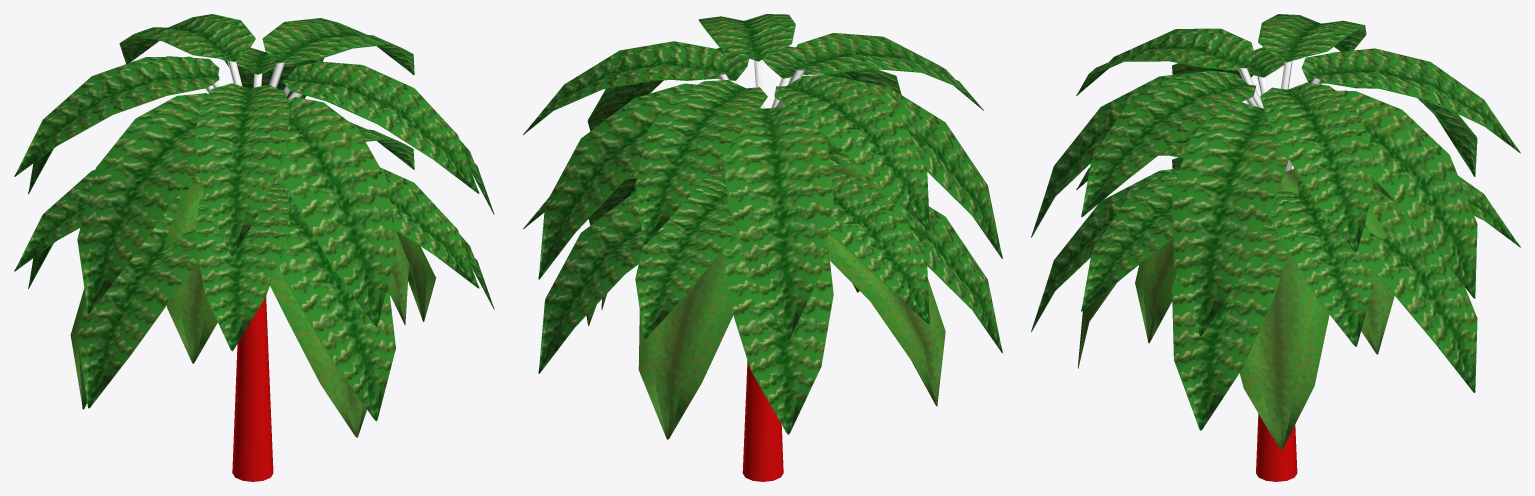
Rendered from palmtree_03.fbx.
3 renders of one model, left to right at view 1: azimuth 30°, elevation 25°; view 2: azimuth 150°, elevation 25°; view 3: azimuth 270°, elevation 25°, orthographic.
Parts seen in each view (by area): view 1: palmtree_03c, palmtree_03b, palmtree_03a, colmesh_palmtree_03a; view 2: palmtree_03c, palmtree_03b, palmtree_03a, colmesh_palmtree_03a; view 3: palmtree_03c, palmtree_03b, palmtree_03a, colmesh_palmtree_03a.
Part boxes in pixels (x1,y1,x2,y2): palmtree_03c: (14,14,494,326); palmtree_03b: (14,122,494,421); palmtree_03a: (70,172,435,437); colmesh_palmtree_03a: (232,296,273,481); palmtree_03c: (523,14,1002,340); palmtree_03b: (523,108,1002,434); palmtree_03a: (586,156,945,439); colmesh_palmtree_03a: (742,360,783,481); palmtree_03c: (1031,14,1520,336); palmtree_03b: (1031,124,1520,430); palmtree_03a: (1078,163,1394,450); colmesh_palmtree_03a: (1256,414,1297,481).
Bounding box in the file's own units: 279 × 268 × 292.
